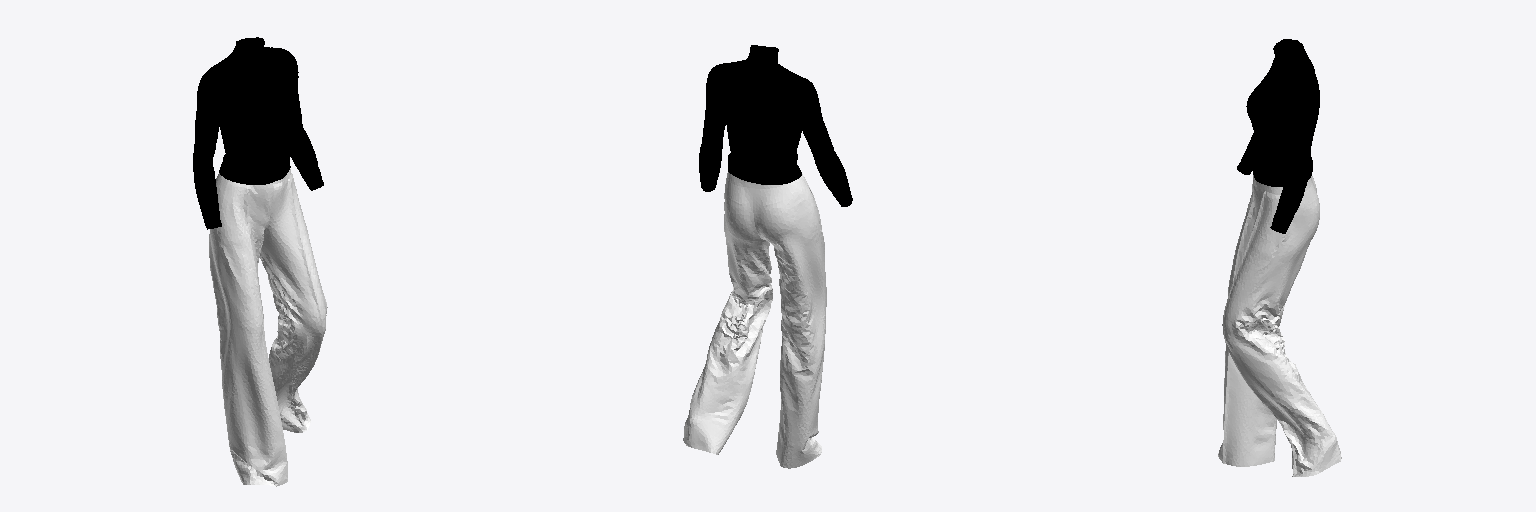
Rendered from DA_HighNeck+WidePants_0000058.obj.
3 views of the same model, side by side, from view 1: azimuth 30°, elevation 25°; view 2: azimuth 150°, elevation 25°; view 3: azimuth 270°, elevation 25° (orthographic).
Bounding box in the file's own units: 0.5433 × 1.62 × 0.4287.